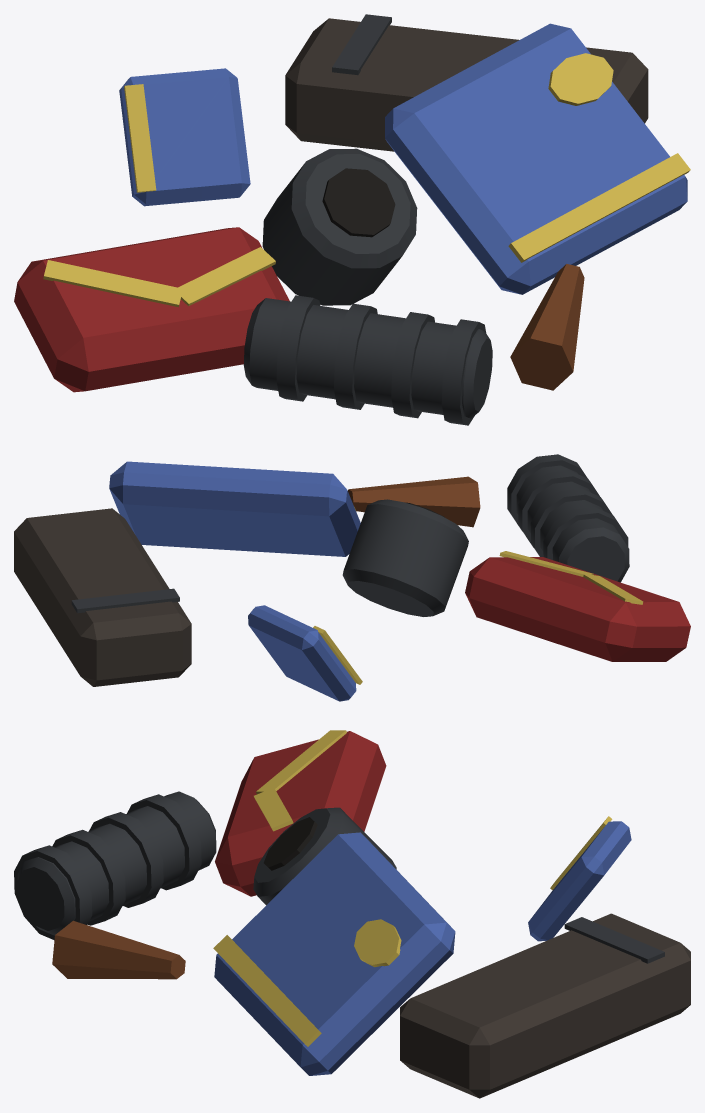
File: scrap.glb
The picture shows the model from 3 angles, top to bottom: view 1: azimuth 30°, elevation 25°; view 2: azimuth 150°, elevation 25°; view 3: azimuth 270°, elevation 25°; orthographic projection. The views are drawn at different scales.
Visible parts, largest first — view 1: body; view 2: body; view 3: body.
Boxes of the visible parts, x1=… form: body: x1=14, y1=14, x2=690, y2=425; body: x1=14, y1=454, x2=690, y2=701; body: x1=14, y1=730, x2=690, y2=1098.
Bounding box in the file's own units: 1.5 × 0.3366 × 1.38.
